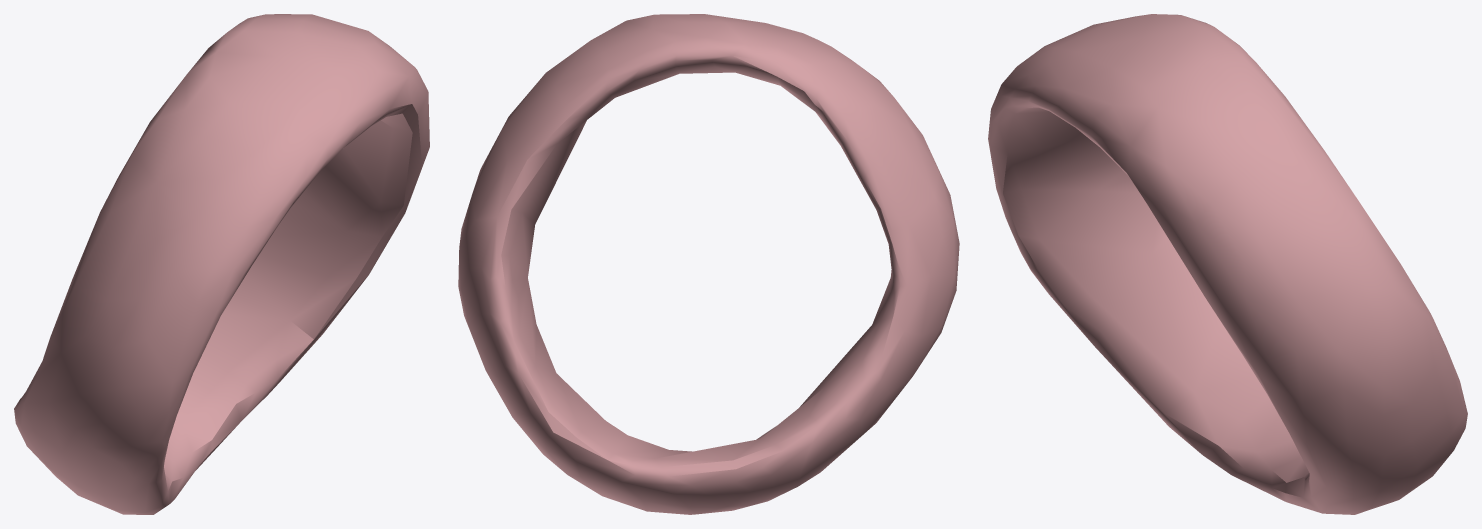
Rendered from fma49073_fj1291.glb.
3 renders of one model, left to right at view 1: azimuth 30°, elevation 25°; view 2: azimuth 150°, elevation 25°; view 3: azimuth 270°, elevation 25°, orthographic. The views are drawn at different scales.
Visible parts, largest first — view 1: FMA49073_FJ1291; view 2: FMA49073_FJ1291; view 3: FMA49073_FJ1291.
Part boxes in pixels (x1,y1,x2,y2): FMA49073_FJ1291: (14, 14, 429, 514); FMA49073_FJ1291: (458, 14, 959, 514); FMA49073_FJ1291: (988, 14, 1467, 514).
Bounding box in the file's own units: 0.00623 × 0.00665 × 0.0059.
